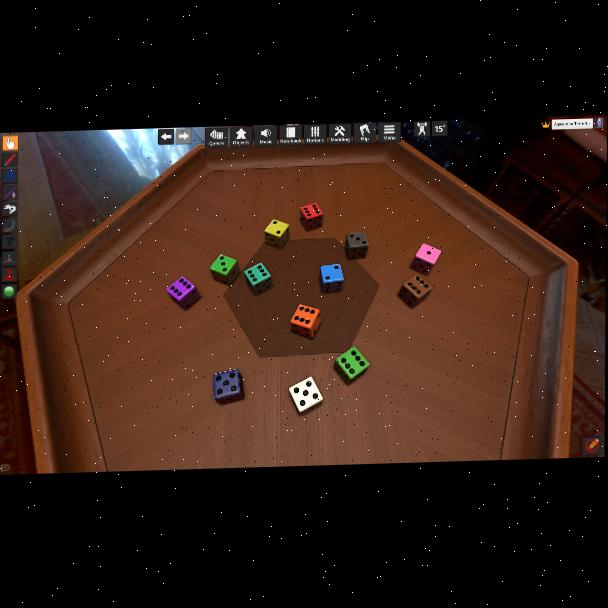d6: (289, 377, 323, 415), (167, 276, 201, 311), (335, 348, 368, 383), (211, 369, 243, 404), (290, 304, 321, 340), (399, 275, 430, 309), (411, 243, 441, 276), (243, 262, 272, 296), (209, 254, 237, 287), (264, 218, 289, 250), (320, 263, 344, 293), (344, 232, 368, 261), (300, 203, 323, 232)
